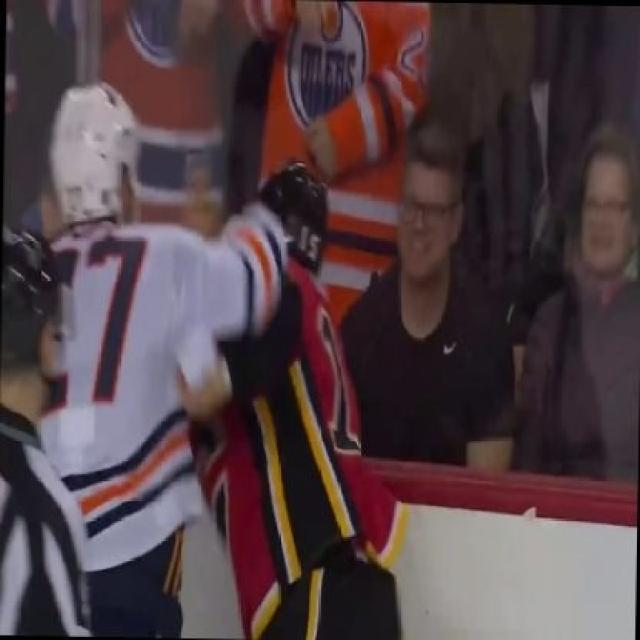fight: (1, 81, 408, 638)
